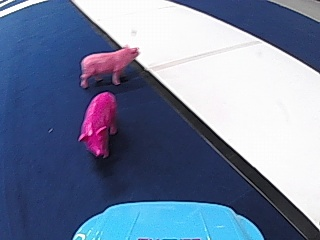pig: (76, 89, 116, 158), (79, 43, 138, 86)
